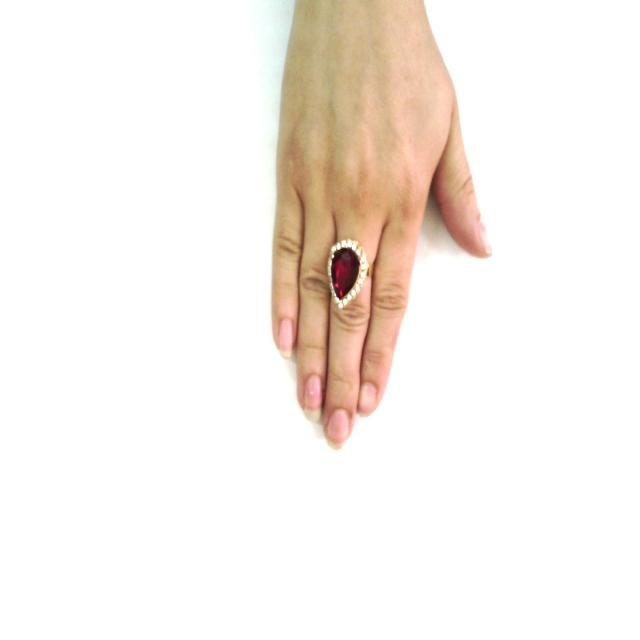Fingernail: (326, 409, 349, 449), (304, 375, 323, 422), (359, 383, 377, 418), (279, 319, 292, 358), (480, 225, 491, 253)
